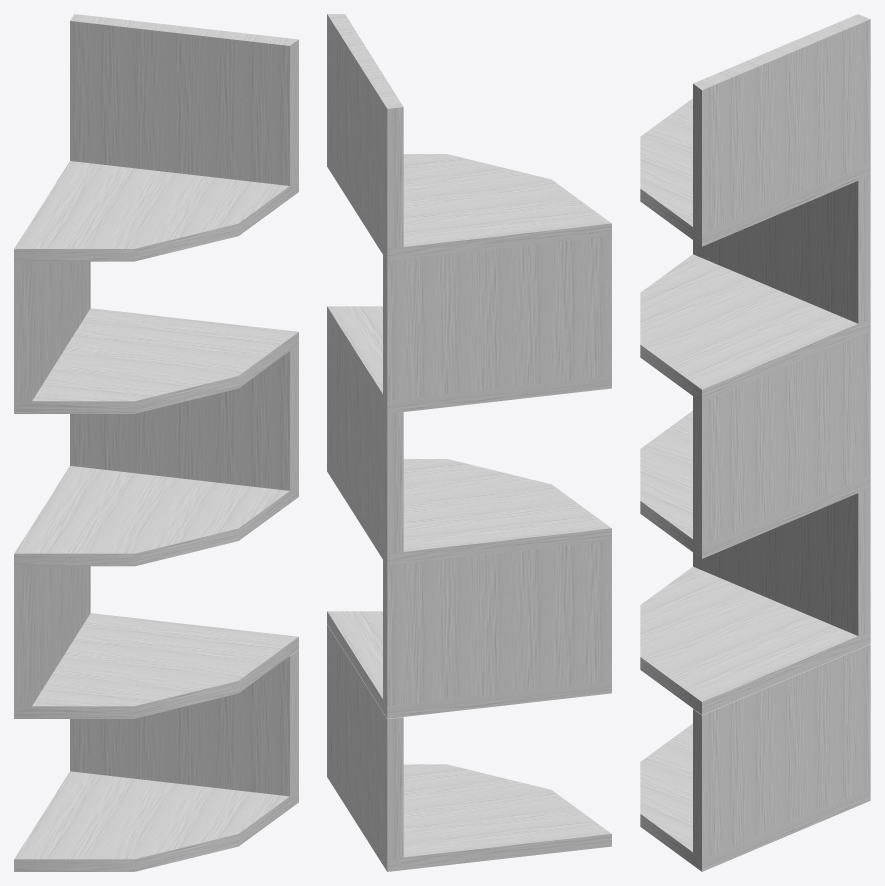
The model's file is Corner_Shelving_01.FBX.
The picture shows the model from 3 angles, left to right: view 1: azimuth 30°, elevation 25°; view 2: azimuth 150°, elevation 25°; view 3: azimuth 270°, elevation 25°; orthographic projection. The views are drawn at different scales.
Visible parts, largest first — view 1: Corner_Shelving; view 2: Corner_Shelving; view 3: Corner_Shelving.
Part boxes in pixels (x1,y1,x2,y2): Corner_Shelving: (14,14,298,871); Corner_Shelving: (327,14,611,871); Corner_Shelving: (640,14,870,871).
Size of the model in its own units: 141 by 362 by 96.59.
